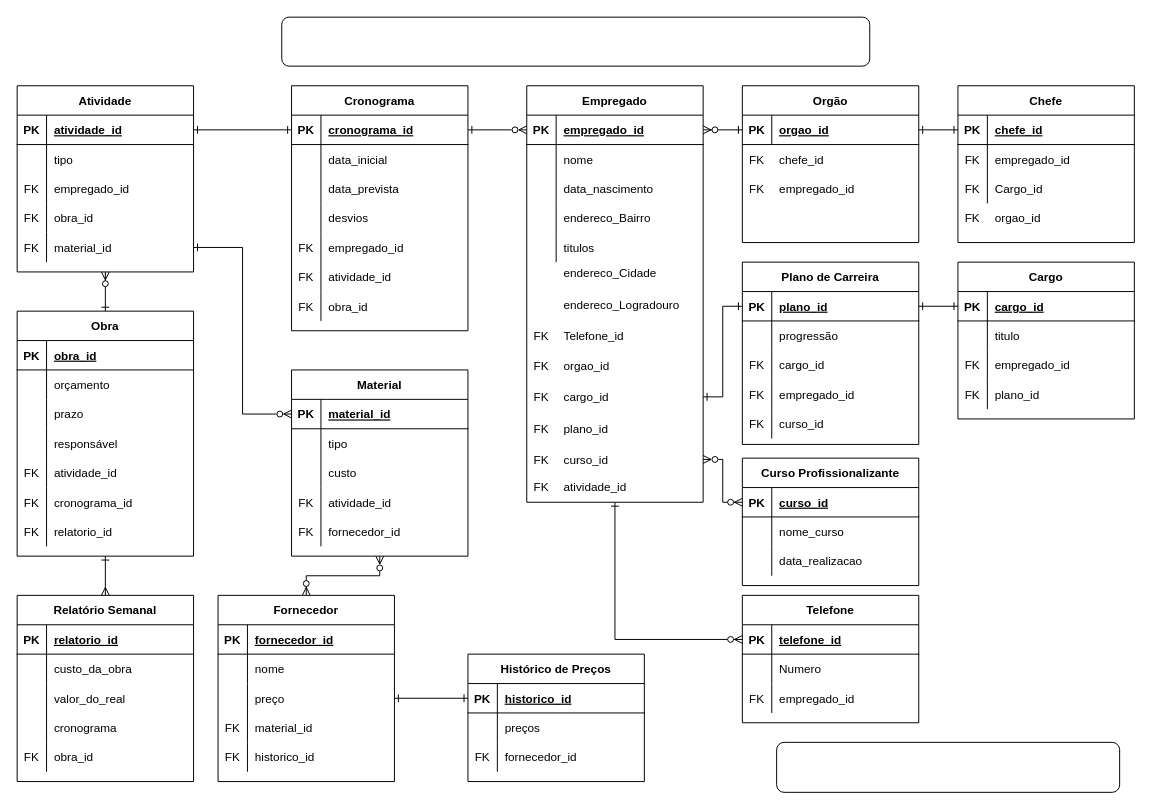
This 1152x809 diagram has some shape labels left out. Each missing label, with the centre of its shape:
"Discente : Manoel Alves do Nascimento Neto Matrícula : 202102072743" belongs at pixel 948 766.
"Modelo ER - Empresa de Construção Civil" belongs at pixel 575 41.
